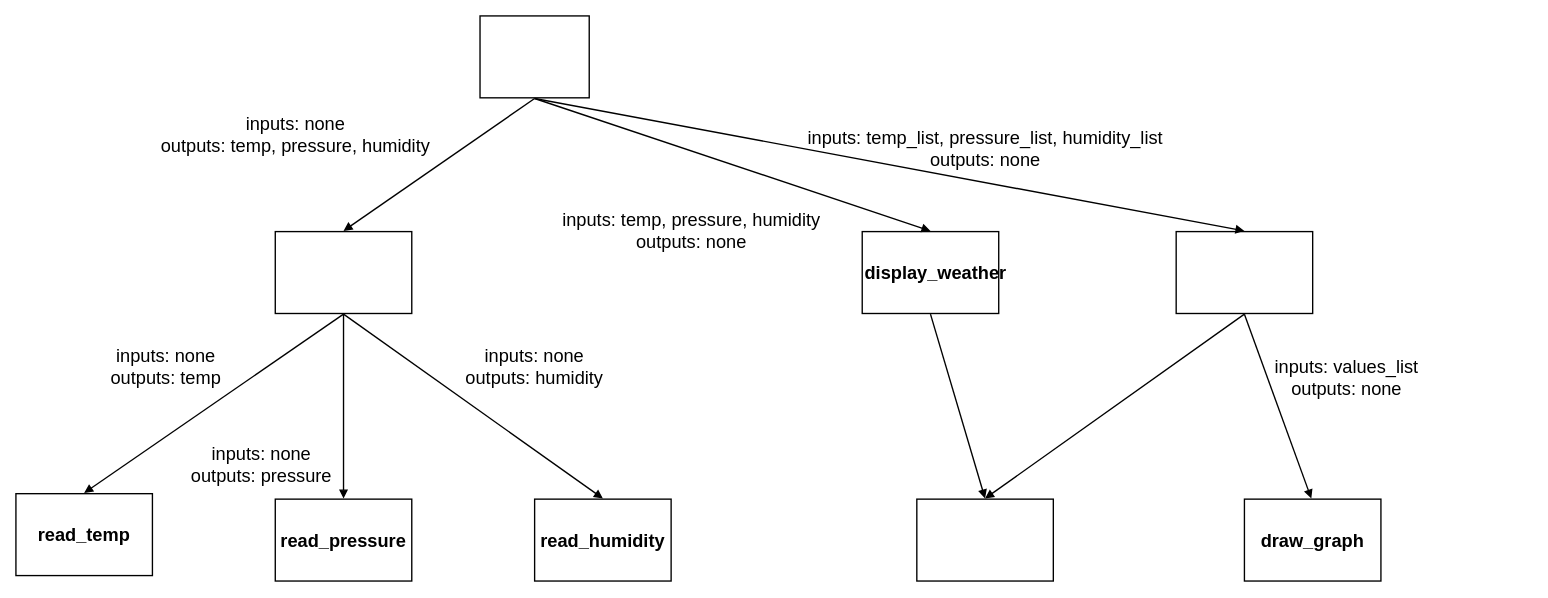
Some shapes in this 1548 by 598 pixel diagram are drawn without their labels. The centre of each missing label's shape, as x and y in pixels:
"convert_temp" goes at pixel 985 539.
"display_history" goes at pixel 1244 272.
"Inputs: temp, metric=False Outputs: converted_temp" goes at pixel 1053 352.
"main" goes at pixel 534 56.
"read_sensors" goes at pixel 343 272.
